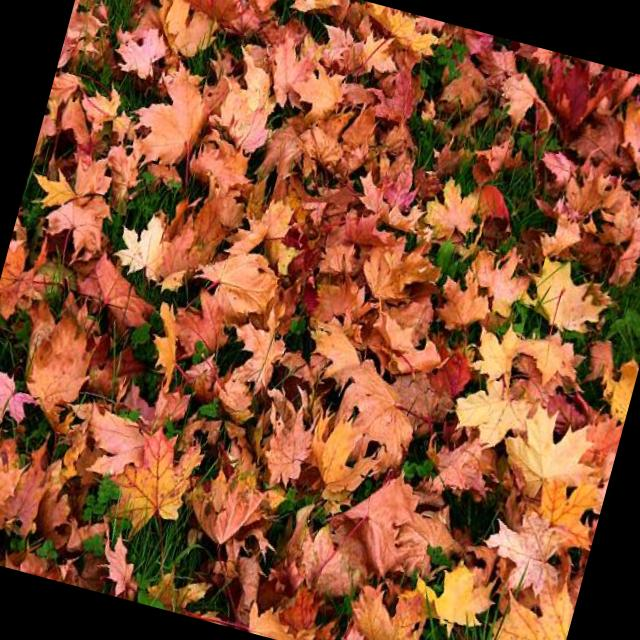paper: (123, 48, 237, 208), (524, 246, 640, 352), (500, 396, 600, 510), (194, 220, 291, 330), (447, 346, 535, 464)
